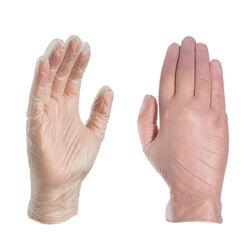gloves: (136, 34, 239, 222), (26, 25, 114, 225)
